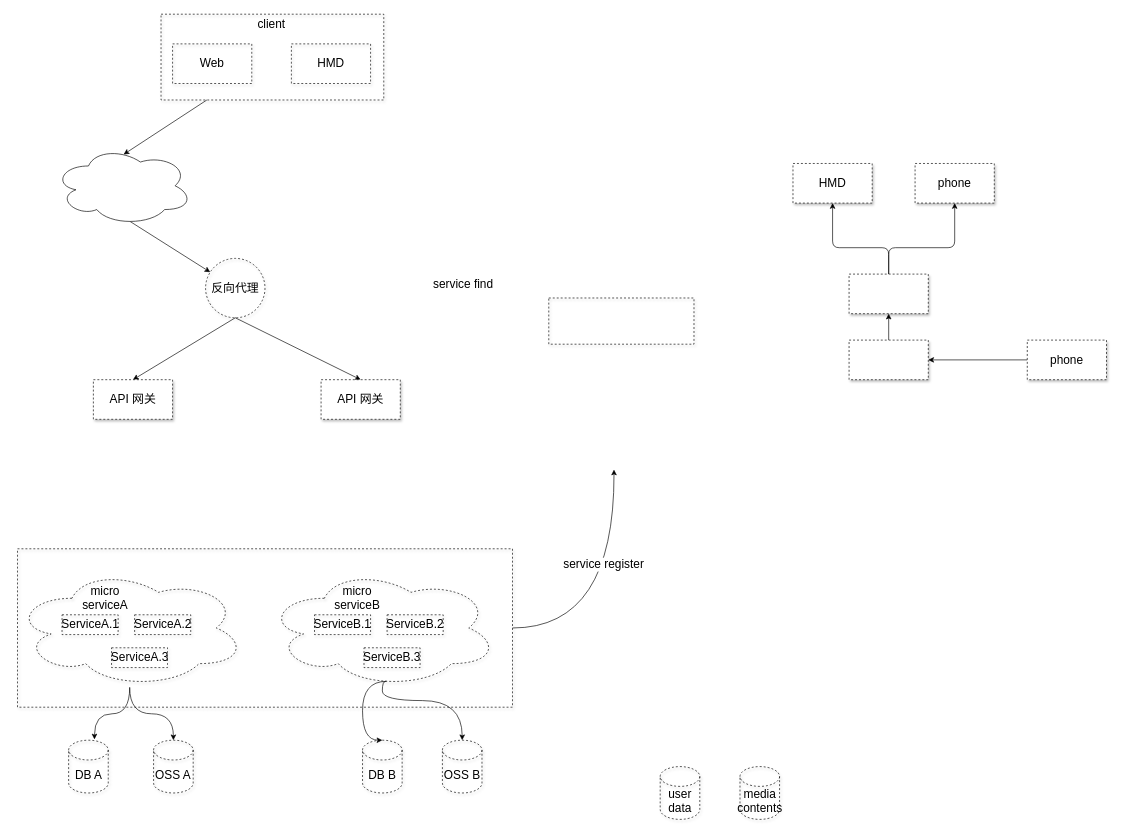
The diagram is 1122 pixels wide and 836 high, and some of its shapes have lost their labels. Here are the shapes that lost their labels. From the top down, the centre of each, then its label:
[122,185]: 互联网
[889,294]: Check
[621,322]: service monitor center
[889,360]: Contents
